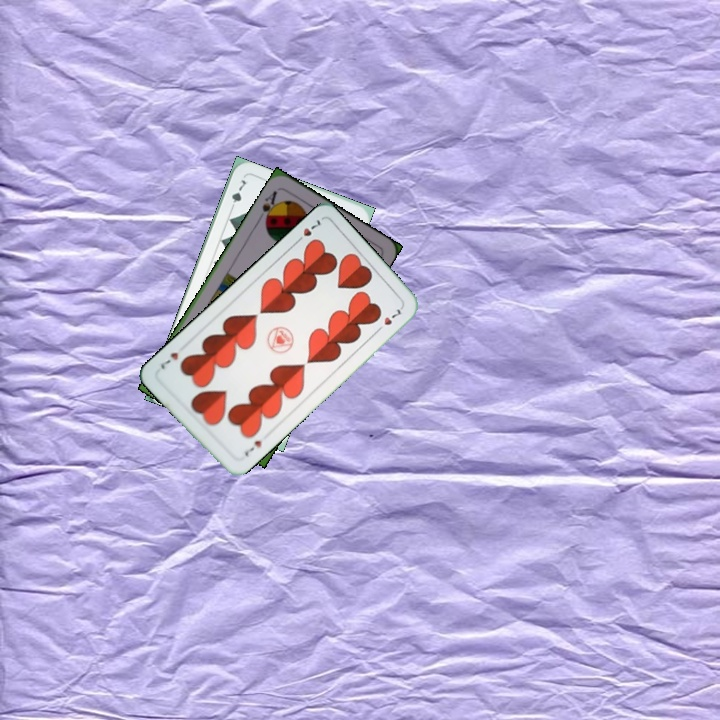G7: (226, 175, 249, 213)
H7: (291, 216, 323, 246), (240, 436, 264, 459)
SA: (258, 187, 282, 226)
